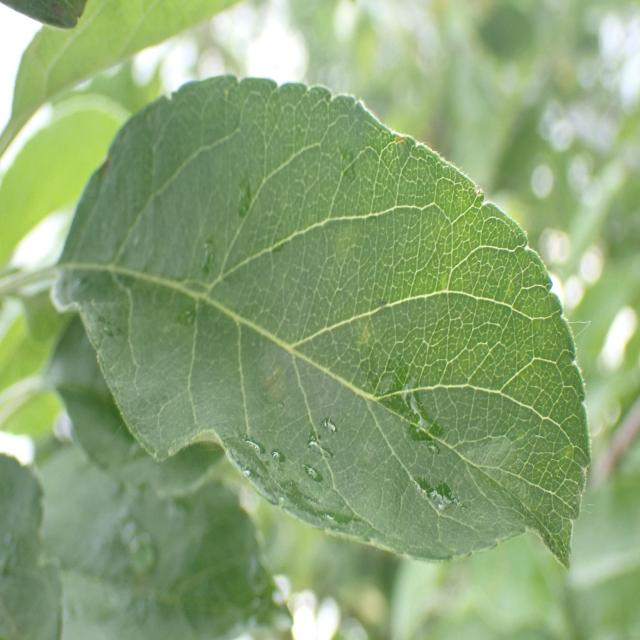scab: (91, 156, 551, 536)
